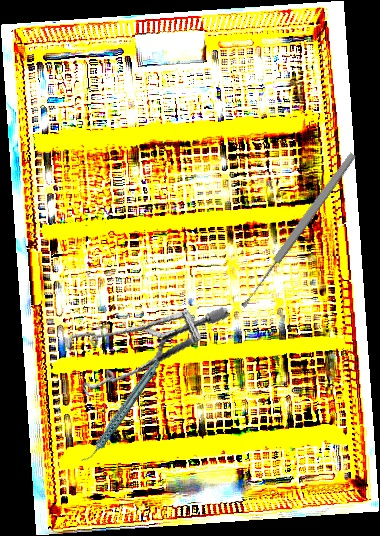Handpiece: (63, 359, 179, 465)
Speculum: (50, 273, 231, 423)
Surgical Spoon: (238, 151, 358, 310)
